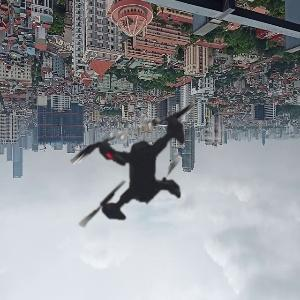drone: (22, 48, 256, 282)
